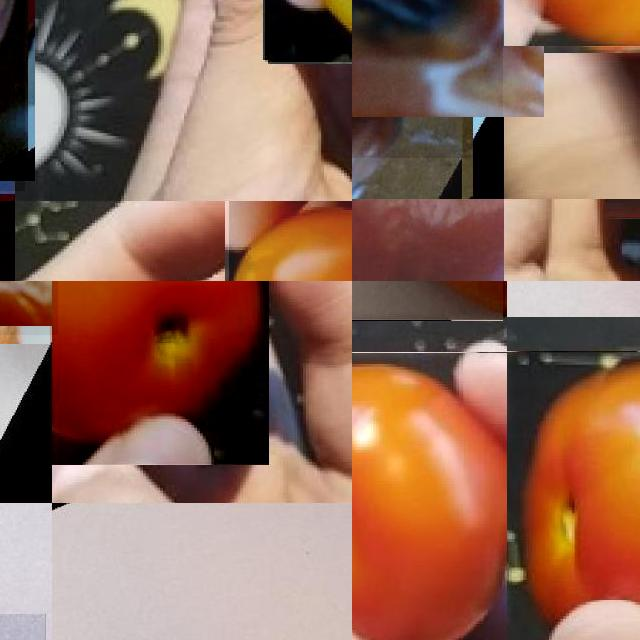Fresh Tomato: (352, 352, 507, 640), (52, 281, 269, 464), (507, 351, 640, 640)
Rotten Tomato: (352, 0, 503, 158), (352, 199, 504, 281)
